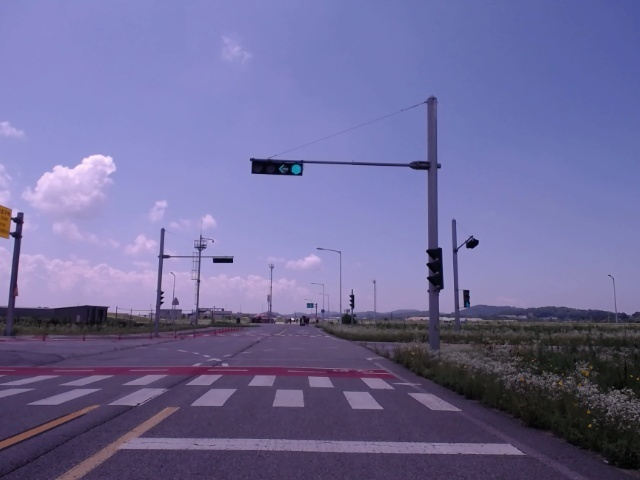all_green_4: (254, 157, 303, 178)
